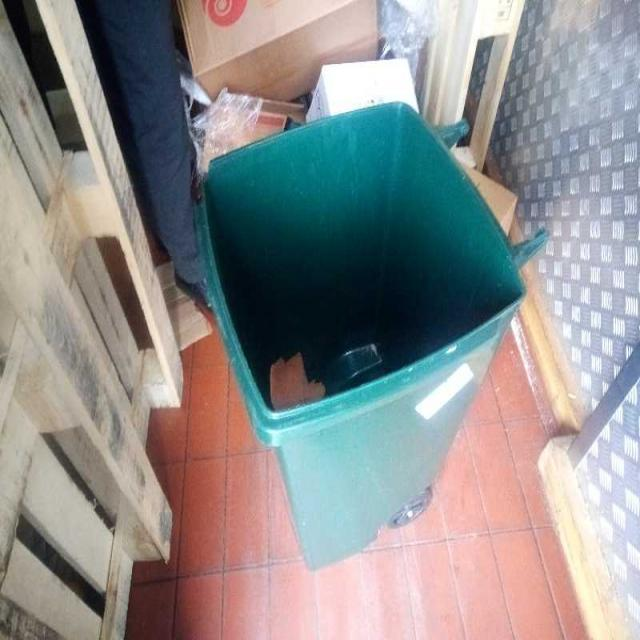Dumpster: (193, 102, 550, 570)
